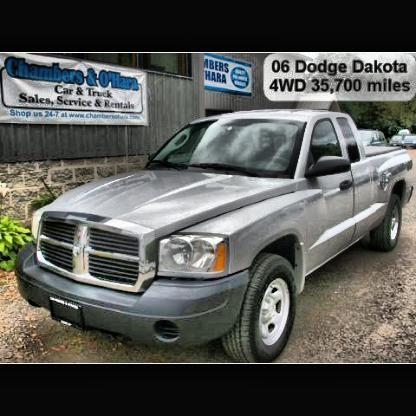Dodge Dakota Club Cab 2007: (14, 108, 416, 365)
